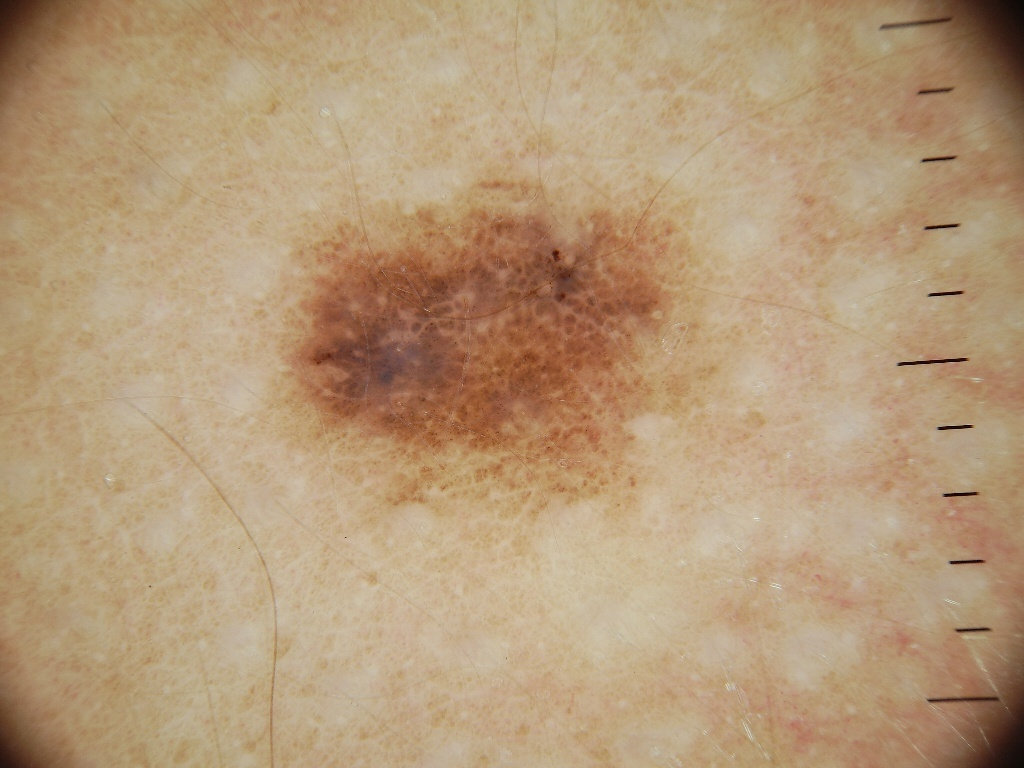Detected Lesion: (264, 175, 714, 510)
